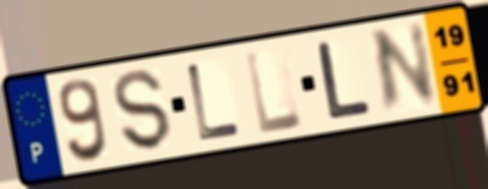9: (57, 76, 110, 166)
L: (242, 46, 307, 137), (314, 39, 375, 122), (184, 60, 244, 144)
N: (368, 18, 441, 119)
S: (111, 67, 175, 153)
